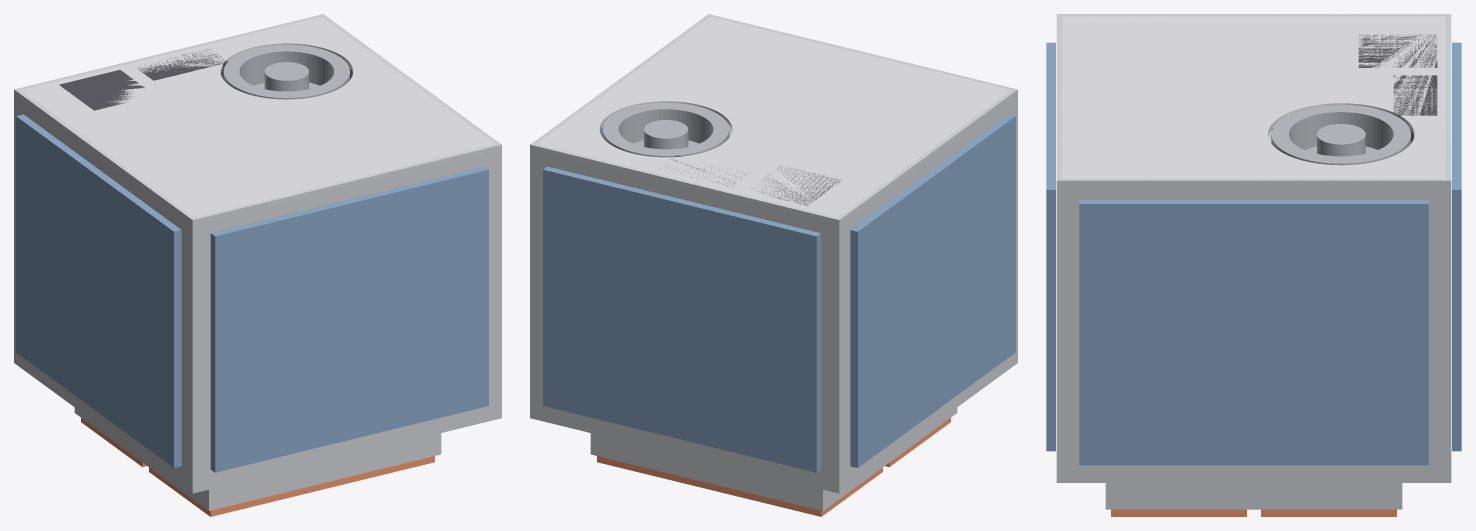
File: nanotug_stowed.glb
3 renders of one model, left to right at view 1: azimuth 30°, elevation 25°; view 2: azimuth 150°, elevation 25°; view 3: azimuth 270°, elevation 25°, orthographic. The views are drawn at different scales.
Parts seen in each view (by area): view 1: wing_3, top_plate, wing_1, frame, pad_suspension, hall_normal, camera, pad_tile_0, lidar; view 2: wing_2, top_plate, wing_1, frame, pad_suspension, hall_normal, pad_tile_1, camera; view 3: wing_0, top_plate, frame, pad_suspension, hall_normal, wing_2, wing_3, camera, lidar, pad_tile_0, pad_tile_1.
Part boxes in pixels (x1,y1,x2,y2): wing_3: [210, 166, 488, 472]; top_plate: [15, 14, 501, 222]; wing_1: [16, 114, 181, 467]; frame: [14, 14, 501, 493]; pad_suspension: [74, 407, 441, 510]; hall_normal: [223, 44, 349, 99]; camera: [59, 70, 144, 110]; pad_tile_0: [149, 456, 434, 516]; lidar: [138, 49, 228, 80]; wing_2: [543, 166, 821, 472]; top_plate: [531, 15, 1017, 222]; wing_1: [850, 114, 1015, 467]; frame: [530, 14, 1017, 493]; pad_suspension: [590, 407, 957, 510]; hall_normal: [603, 102, 729, 157]; pad_tile_1: [597, 456, 882, 516]; camera: [750, 167, 841, 205]; wing_0: [1079, 200, 1428, 465]; top_plate: [1056, 14, 1451, 184]; frame: [1056, 14, 1451, 482]; pad_suspension: [1105, 483, 1402, 509]; hall_normal: [1271, 104, 1410, 165]; wing_2: [1452, 42, 1461, 451]; wing_3: [1046, 42, 1055, 451]; camera: [1358, 34, 1437, 67]; lidar: [1393, 75, 1437, 143]; pad_tile_0: [1111, 509, 1246, 516]; pad_tile_1: [1261, 509, 1396, 516].
Bounding box in the file's own units: 0.238 × 0.227 × 0.238.
